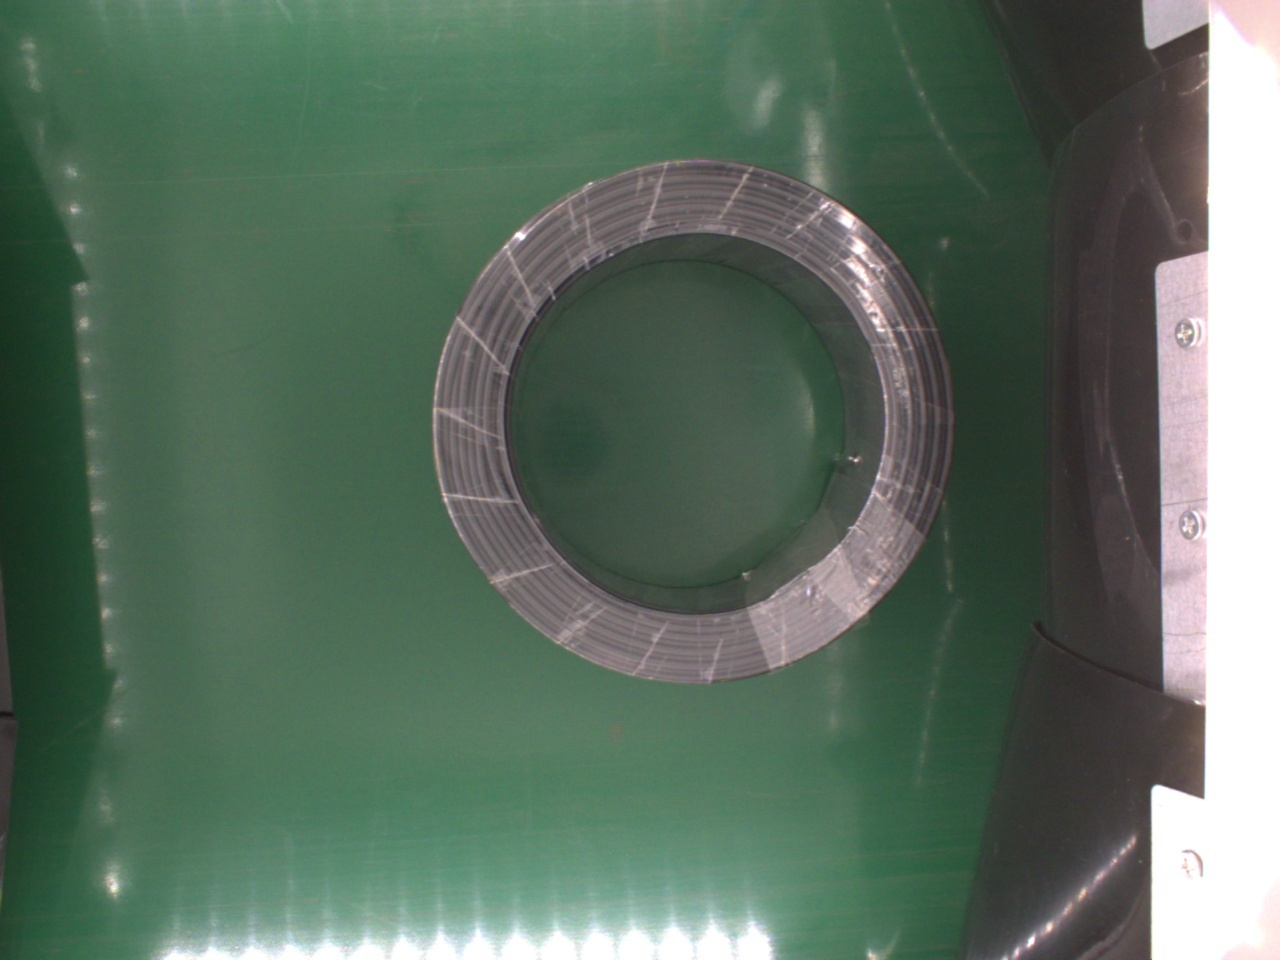black: (431, 158, 951, 684)
